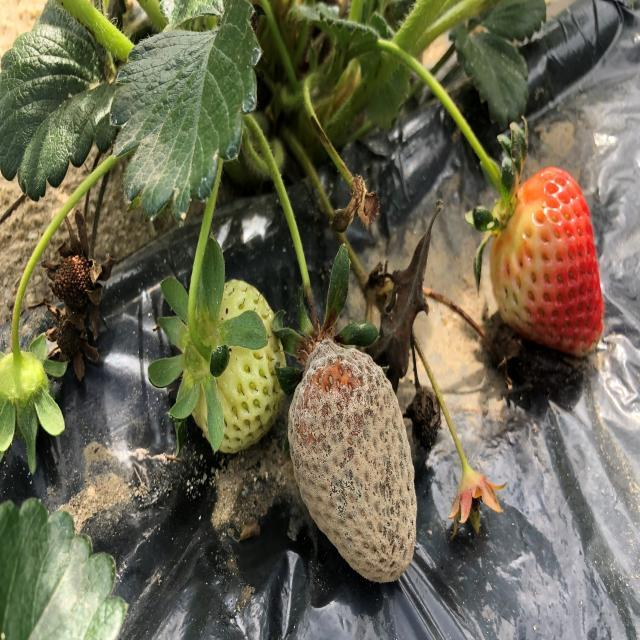Fruta sana: (488, 171, 606, 360)
Moho gris: (289, 321, 421, 586)
